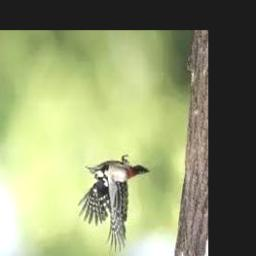Woodpecker: (77, 155, 149, 256)
